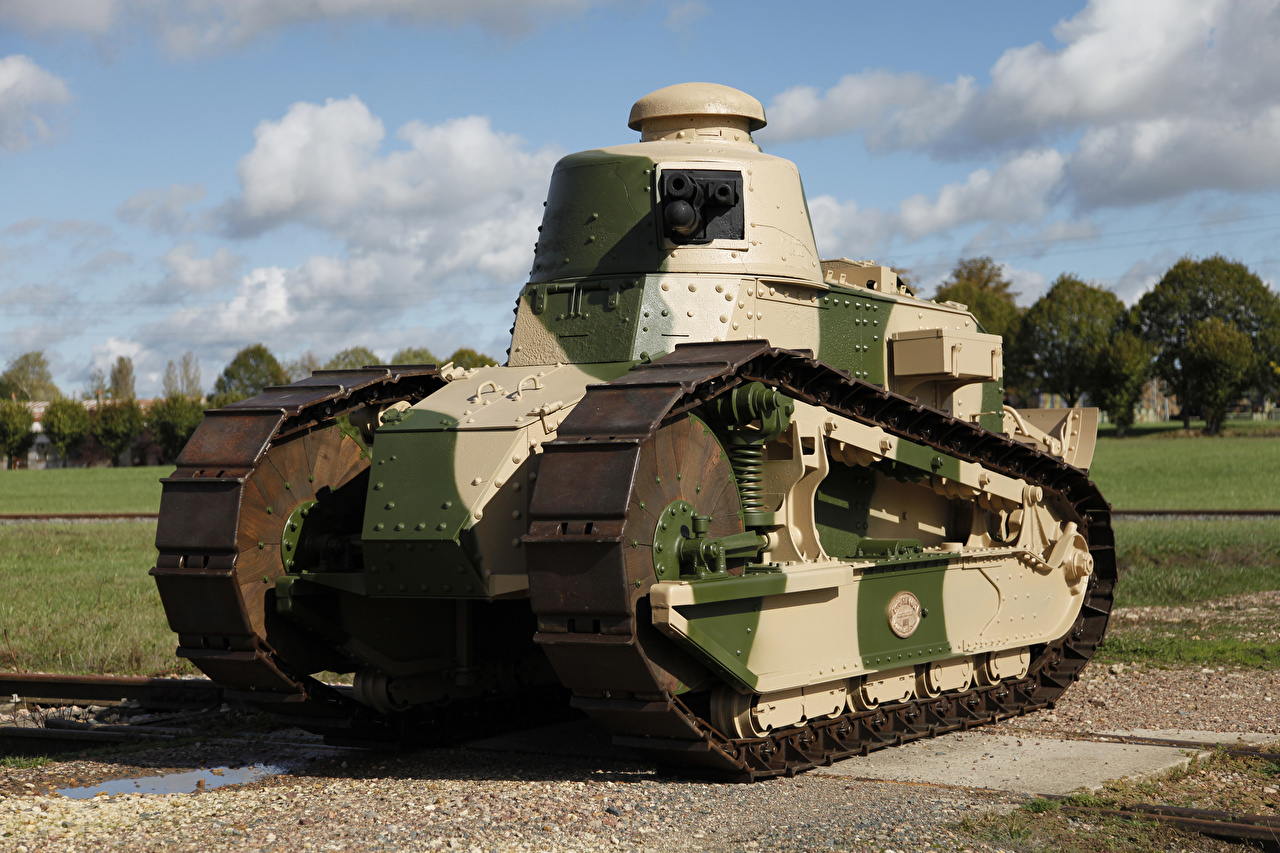tank: (162, 82, 1163, 782)
